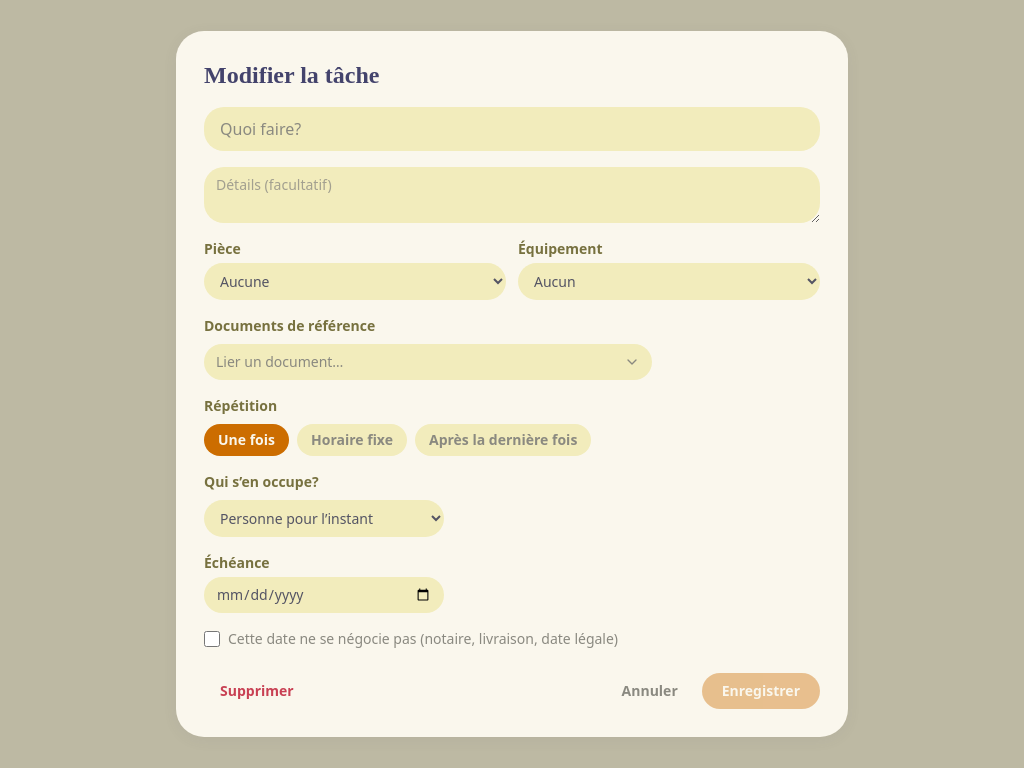
Test: la saisie pendant le premier chargement du détail n’est pas écrasée
The image size is (1024, 768).
Type "Titre tapé avant le GET" into the field named "Titre" at [512, 129], box [204,107,820,151]
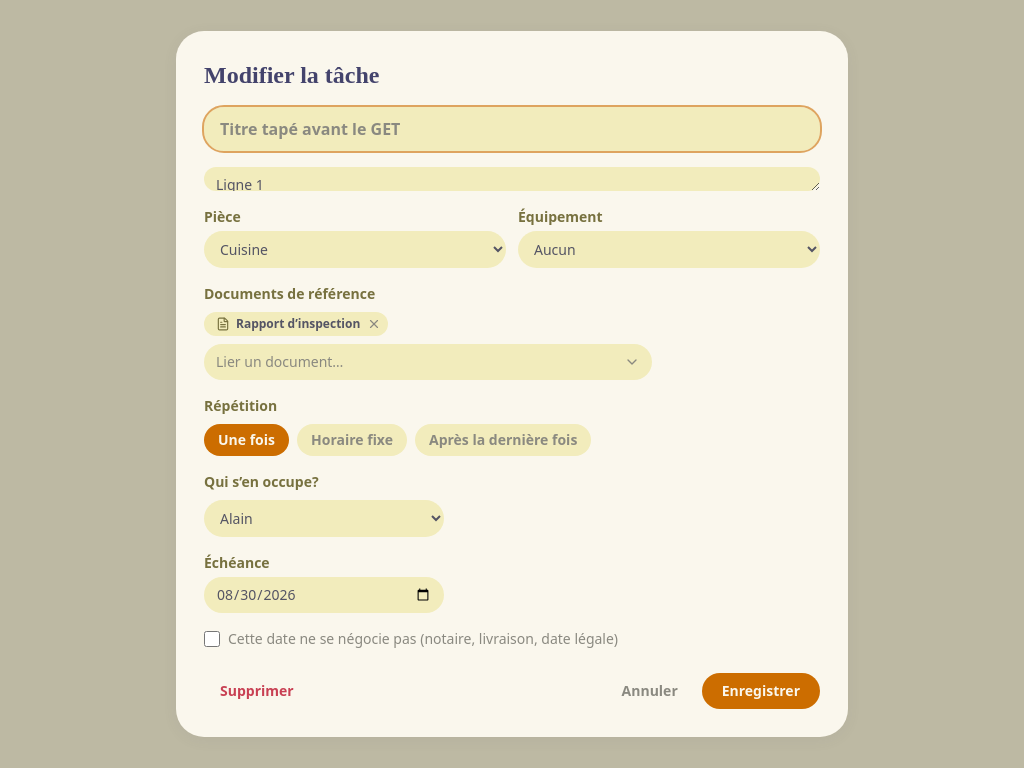
Result: the date field labelled "Échéance" holds "2026-08-30" at [204,577,444,613]
Result: the dropdown labelled "Pièce" shows "Cuisine" at [204,231,506,268]
